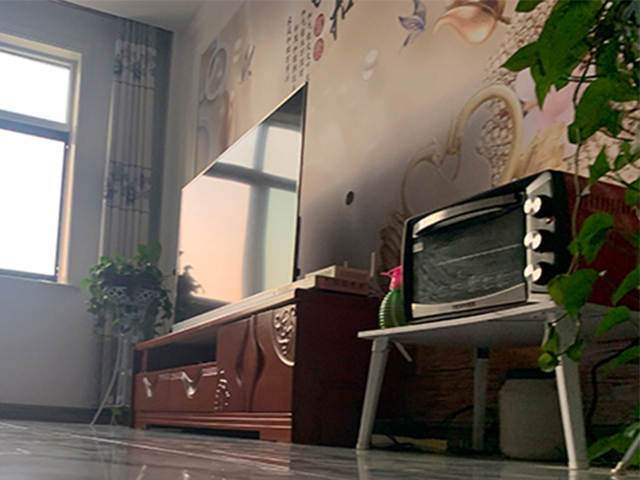cabinet: (127, 285, 401, 443)
curtain: (103, 18, 151, 417)
table: (355, 300, 640, 471)
